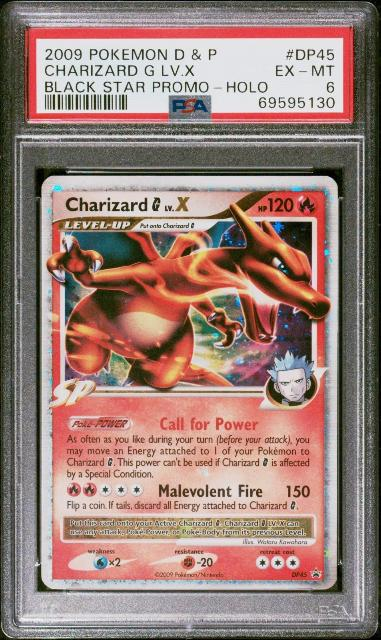Card: (37, 170, 342, 595)
Name: (62, 193, 192, 216)
